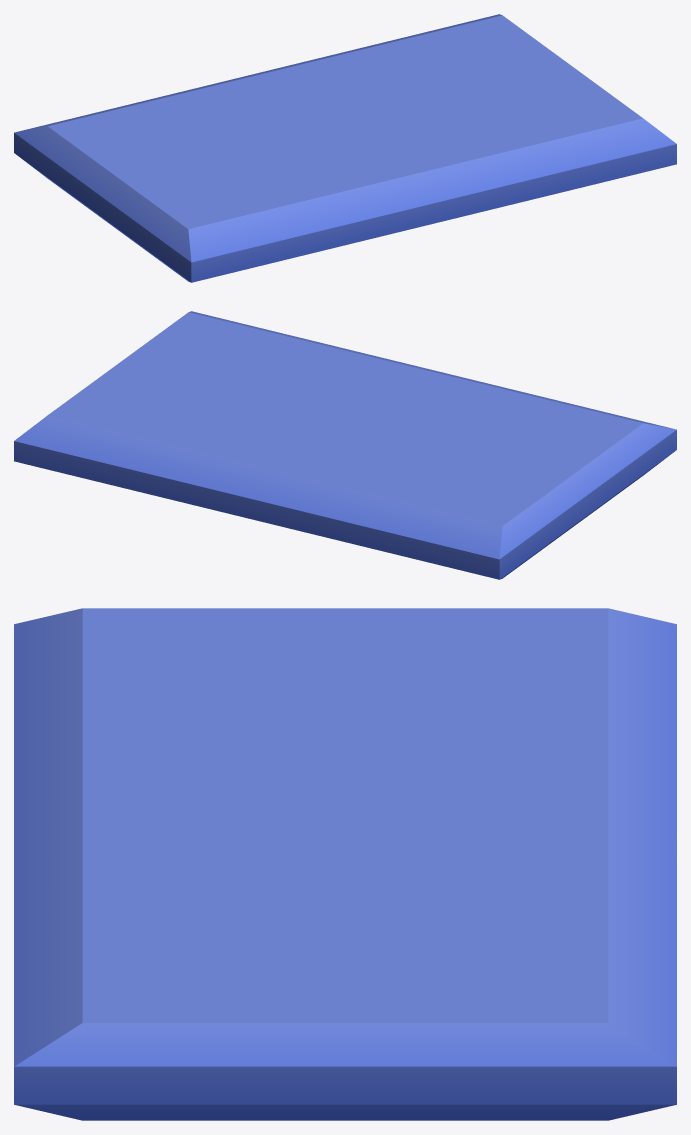
Rendered from Guard_Two.fbx.
The picture shows the model from 3 angles, top to bottom: view 1: azimuth 30°, elevation 25°; view 2: azimuth 150°, elevation 25°; view 3: azimuth 270°, elevation 25°; orthographic projection. The views are drawn at different scales.
Parts seen in each view (by area): view 1: Guard_Two; view 2: Guard_Two; view 3: Guard_Two.
Boxes of the visible parts, <box> form: Guard_Two: <box>14,14,676,282</box>; Guard_Two: <box>14,311,676,579</box>; Guard_Two: <box>14,608,676,1120</box>.
Size of the model in its own units: 2.82 by 0.2908 by 1.79.
